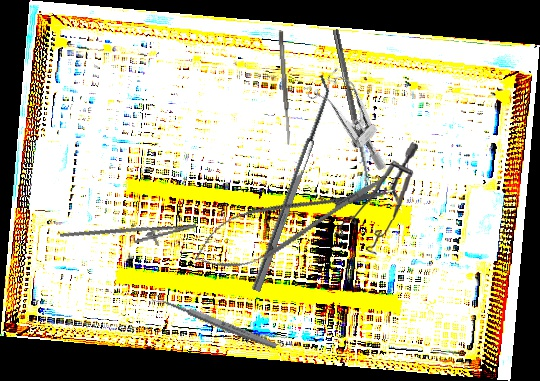Micro Scissor: (185, 159, 398, 285)
Needle Holder: (59, 207, 199, 264)
Spatula Surgical: (244, 74, 337, 293), (277, 29, 292, 147)
Speculum: (295, 59, 414, 173), (334, 137, 418, 258)
Surgical Spoon: (151, 292, 278, 351), (331, 29, 372, 186)
